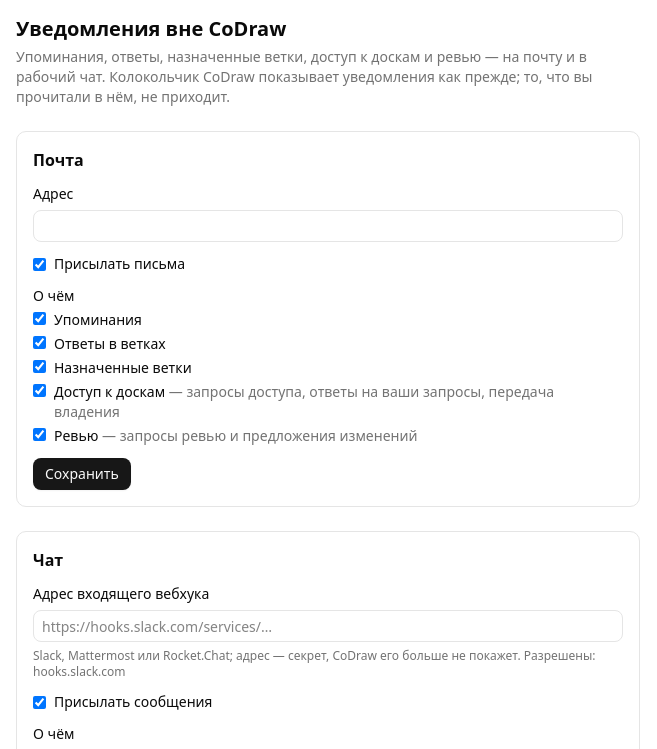
Test: NotificationSettingsPage › tells why an address or a webhook is not taken
The image size is (657, 749).
Type "alice@example.com" into the field labelled "Адрес" at {"x": 328, "y": 226}, box 33,210 -> 623,242
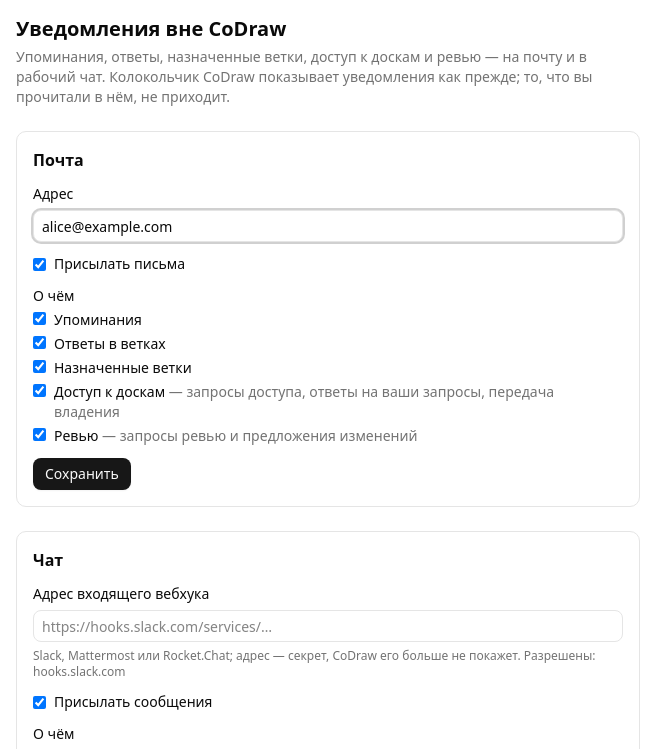
Click the button "Сохранить" at {"x": 82, "y": 474}, box 33,458 -> 131,490
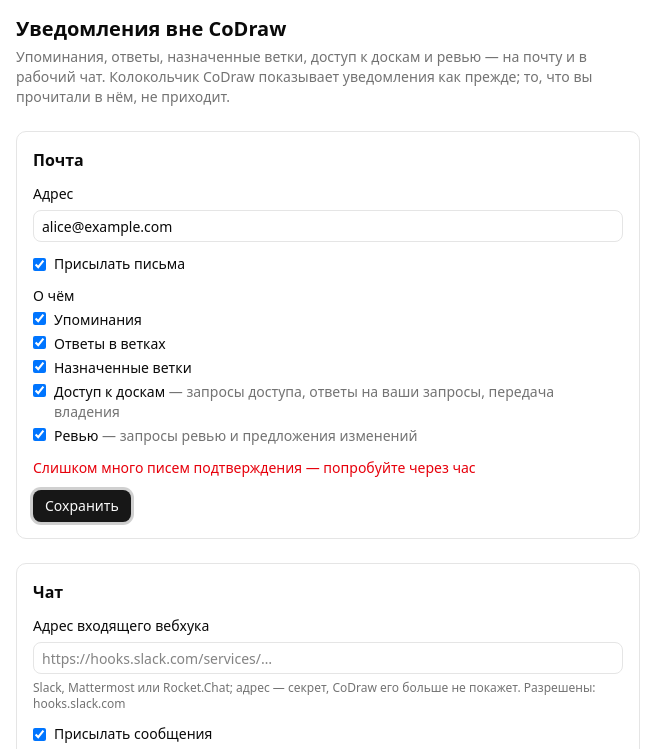
Now the message reads "Слишком много писем подтверждения — попробуйте через час", box 33,458 -> 476,477
Type "https://evil.example.com/hook" into the field labelled "Адрес входящего вебхука" at {"x": 328, "y": 658}, box 33,642 -> 623,674
(page scrolled)
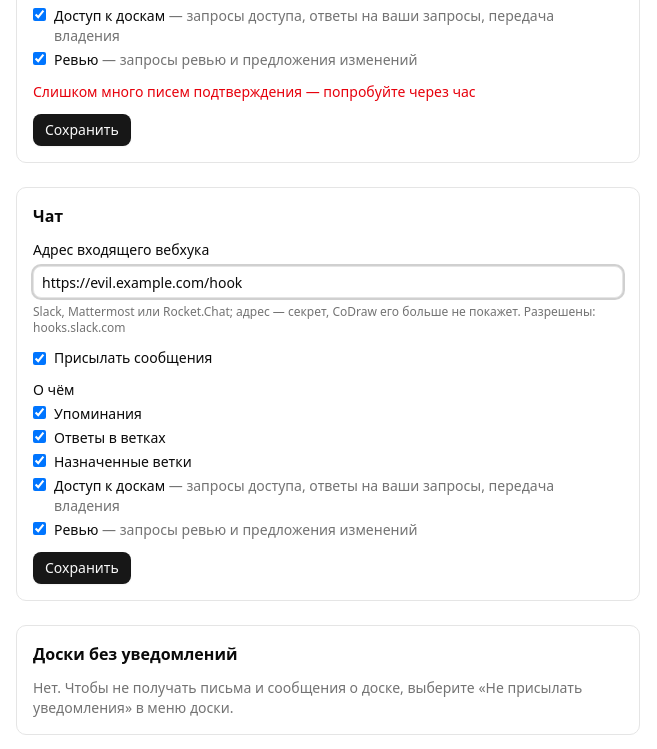
Click the button "Сохранить" below "Присылать сообщения" at {"x": 82, "y": 568}, box 33,552 -> 131,584
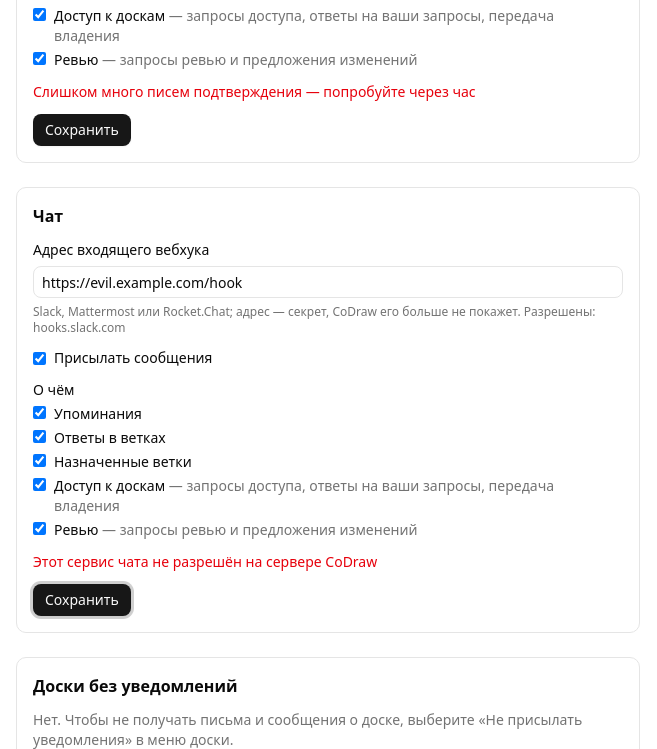
Now the message "Этот сервис чата не разрешён на сервере CoDraw" is shown, box 33,552 -> 377,571
